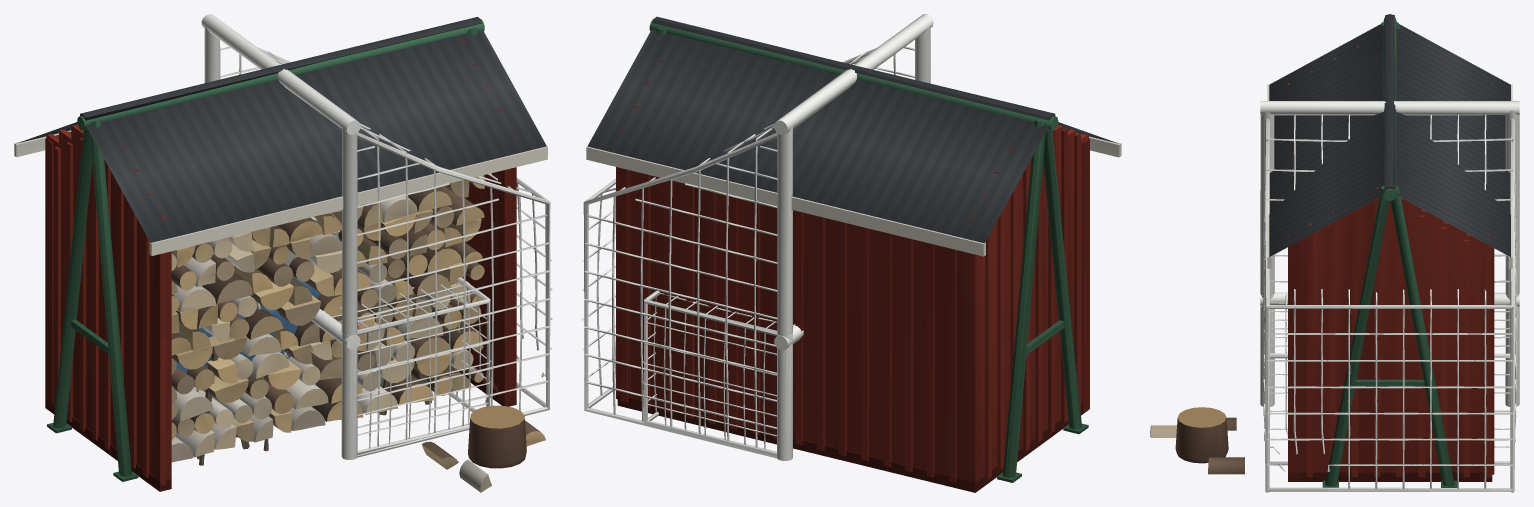
Rendered from yard.glb.
The picture shows the model from 3 angles, left to right: view 1: azimuth 30°, elevation 25°; view 2: azimuth 150°, elevation 25°; view 3: azimuth 270°, elevation 25°; orthographic projection. The views are drawn at different scales.
Parts seen in each view (by area): view 1: vedbod, fotbollsmal-stort, gungor, fotbollsmal, roddbat-vinter; view 2: vedbod, fotbollsmal-stort, gungor, fotbollsmal; view 3: vedbod, fotbollsmal-stort, gungor, fotbollsmal.
Boxes of the visible parts, box(x1,y1,x2,y2) form: vedbod: box(14, 17, 547, 492); fotbollsmal-stort: box(201, 14, 552, 459); gungor: box(47, 19, 484, 481); fotbollsmal: box(311, 277, 491, 456); roddbat-vinter: box(175, 276, 431, 465); vedbod: box(586, 16, 1121, 492); fotbollsmal-stort: box(581, 14, 933, 460); gungor: box(649, 19, 1088, 482); fotbollsmal: box(643, 290, 803, 458); vedbod: box(1150, 14, 1512, 481); fotbollsmal-stort: box(1260, 101, 1519, 492); gungor: box(1322, 17, 1457, 487); fotbollsmal: box(1260, 292, 1519, 465).
Size of the model in its own units: 20.49 by 16.92 by 18.09.
